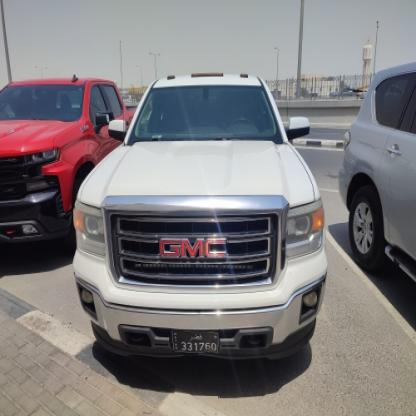np: (170, 323, 222, 358)
